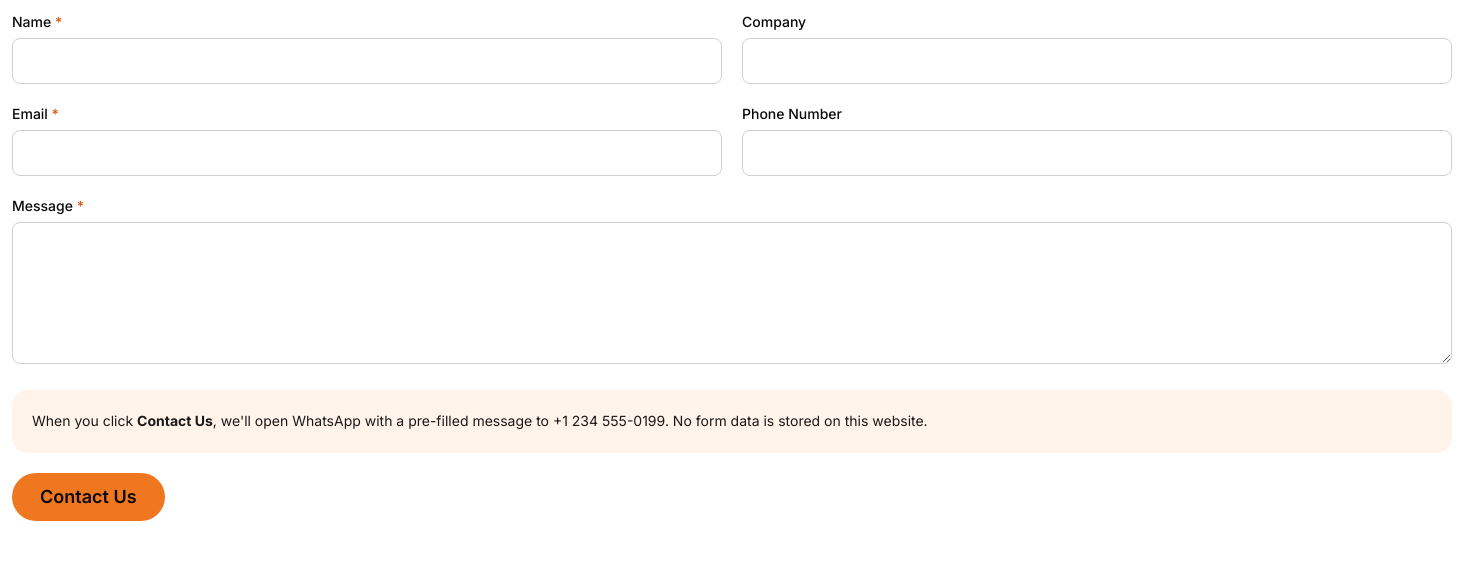
Test: ContactForm › shows validation error for invalid email
The image size is (1464, 564).
Type "Daniel" into the field labelled "Name *" at (367, 61), box [12,38,722,84]
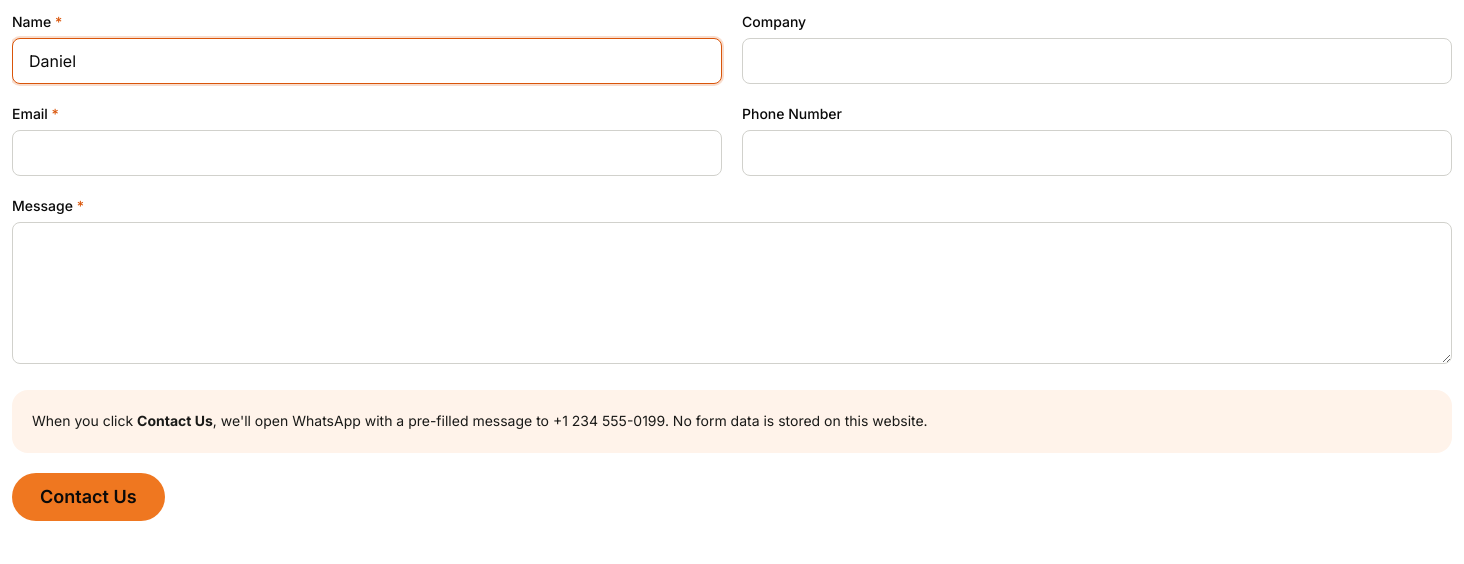
Type "not-an-email" into the field labelled "Email *" at (367, 153), box [12,130,722,176]
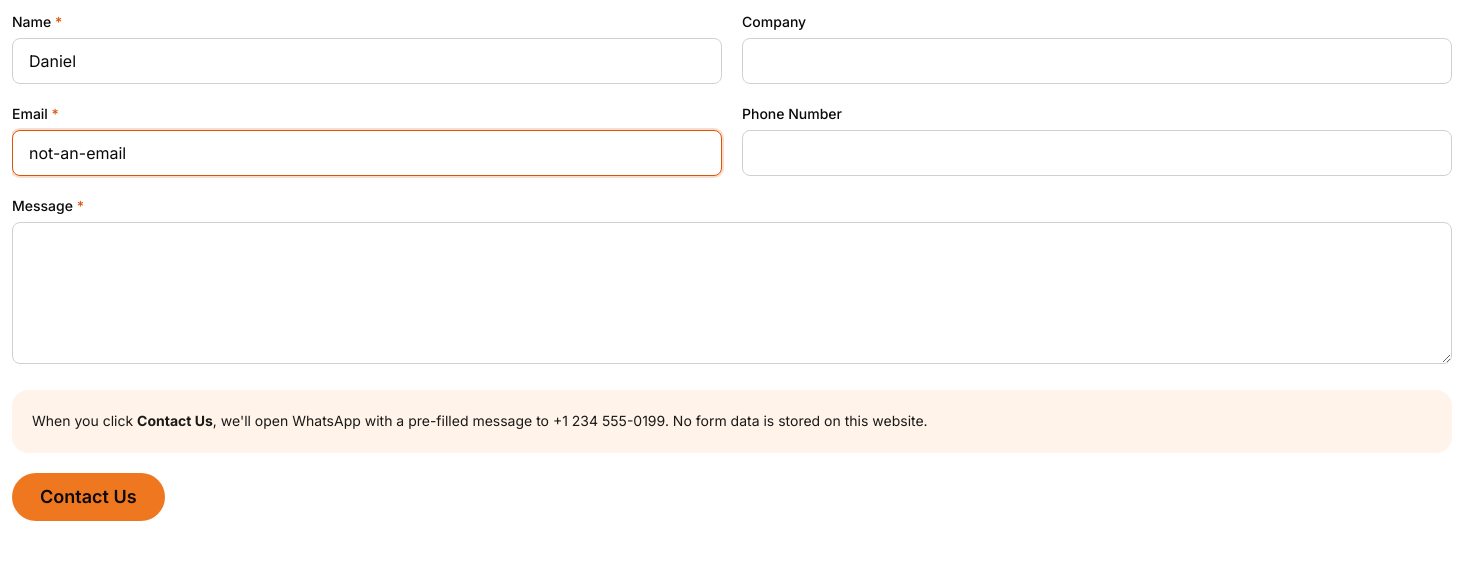
Type "I need a freight quote for ocean shipping." into the text box labelled "Message *" at (732, 293), box [12,222,1452,364]
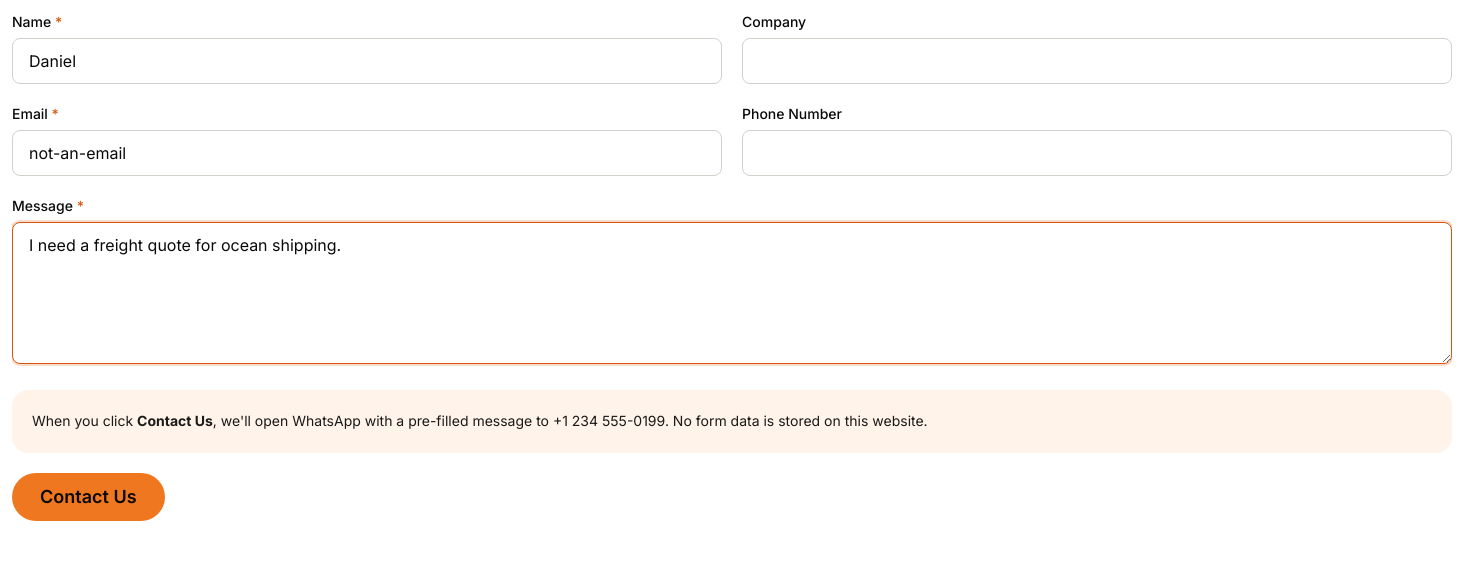
Click the button "Contact Us" at (88, 497), box [12,473,164,521]
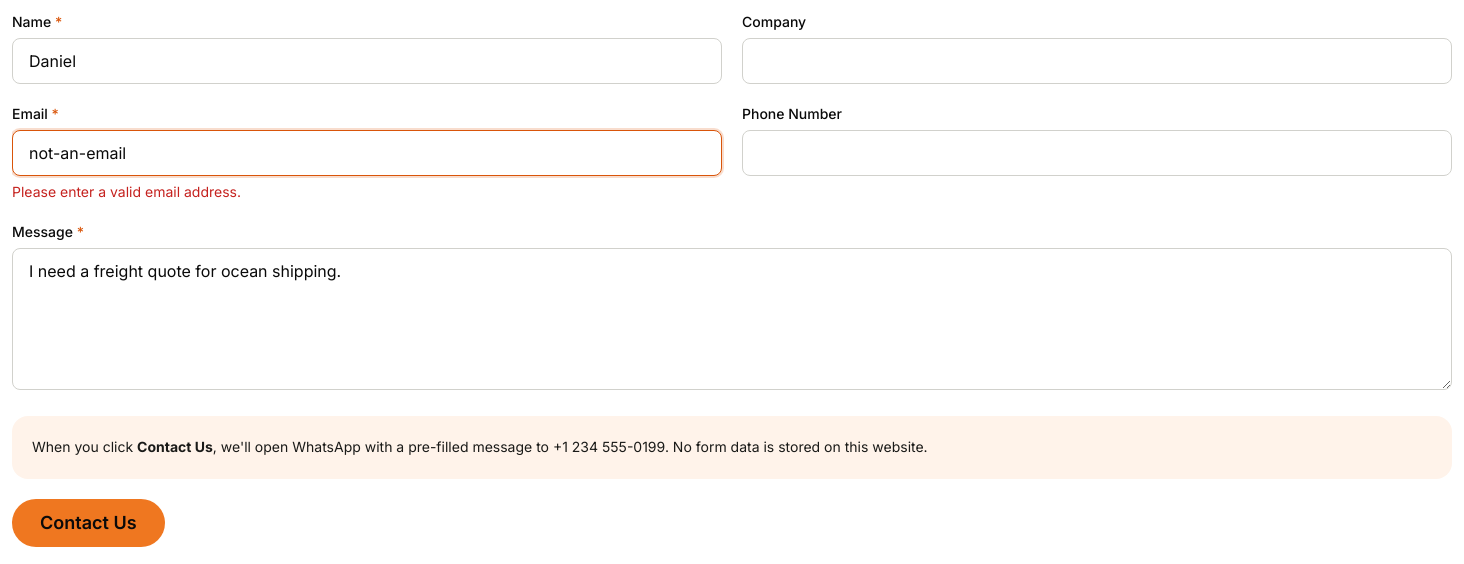
Expected: the text "Please enter a valid email address." is shown, [12,183,241,200]
